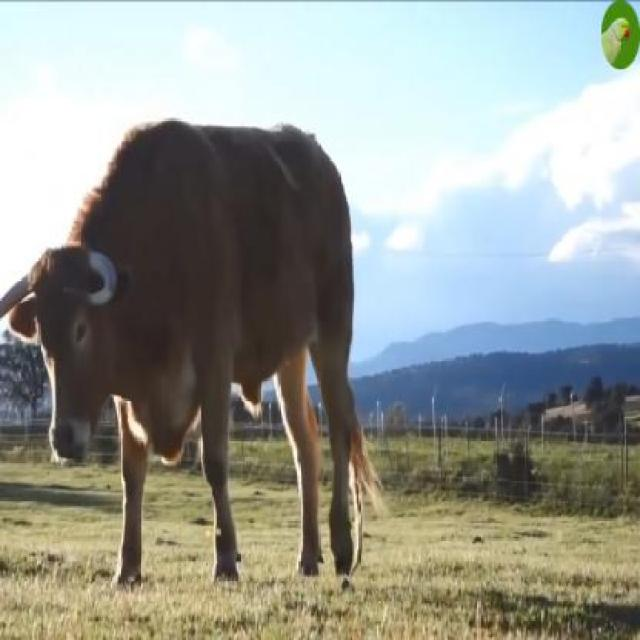Cow: (0, 117, 357, 586)
